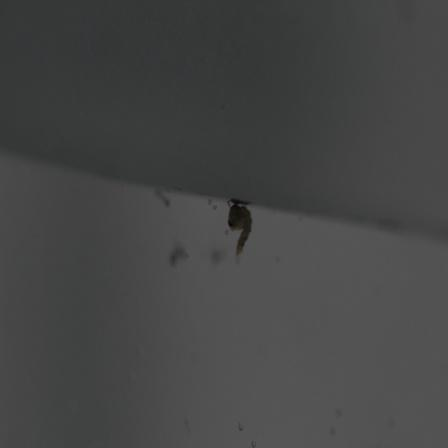Jentik-Nyamuk: (222, 202, 256, 264)
